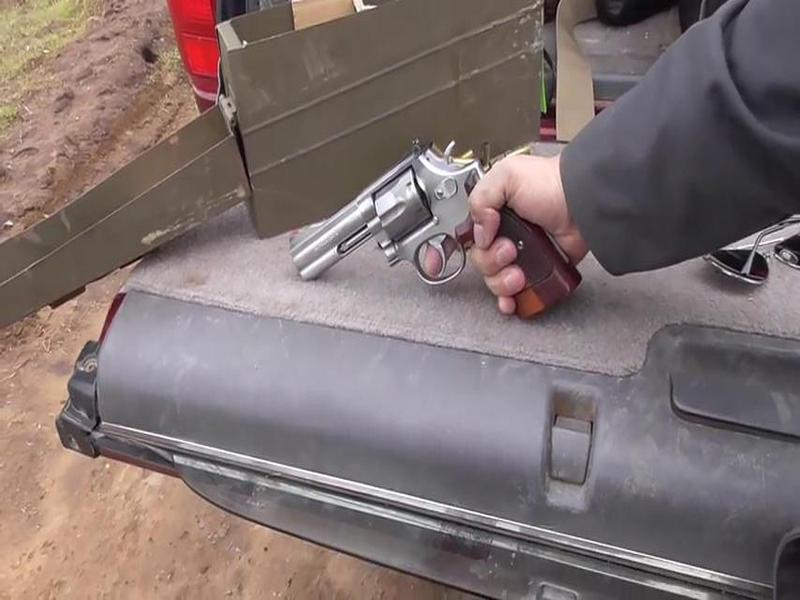Revolver: (287, 135, 518, 314)
